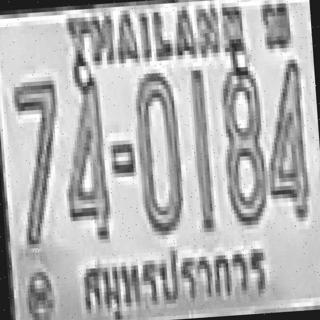N00: (132, 68, 184, 232)
N01: (187, 68, 215, 230)
N04: (57, 78, 111, 237), (260, 55, 311, 219)
N07: (10, 74, 64, 242)
N08: (216, 62, 268, 222)
P57: (78, 233, 274, 320)
